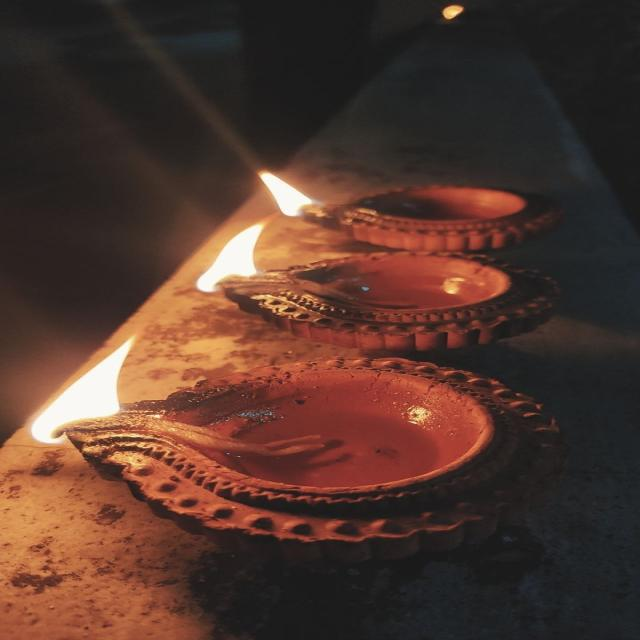fire: (30, 331, 137, 443), (194, 214, 269, 294), (256, 168, 318, 217)
